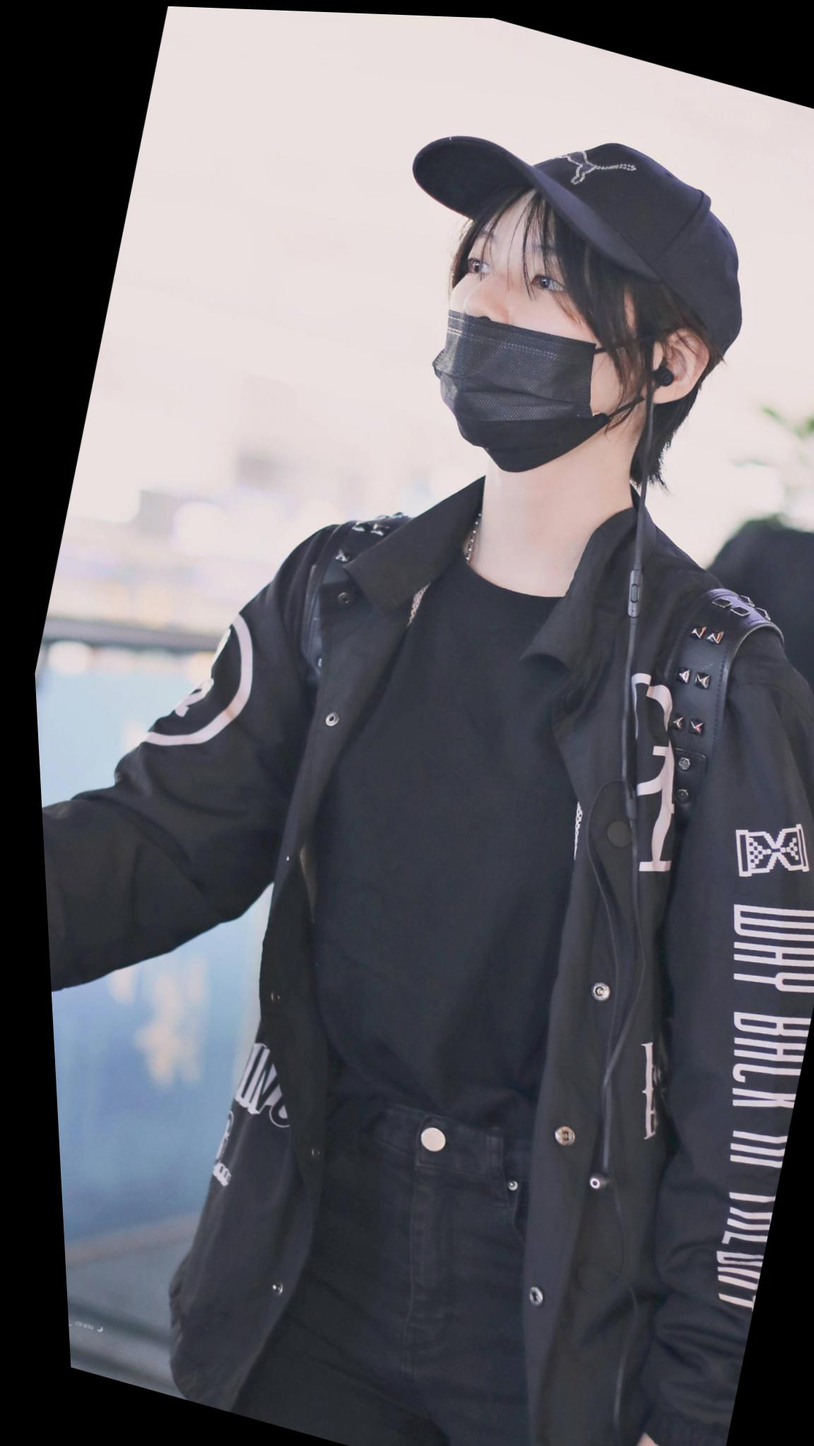WRONG: (406, 194, 659, 483)
